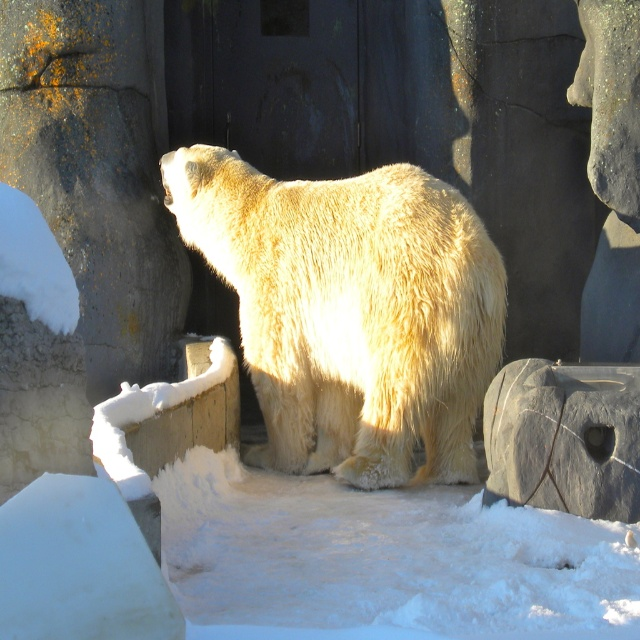Polar bear: (158, 134, 512, 484)
